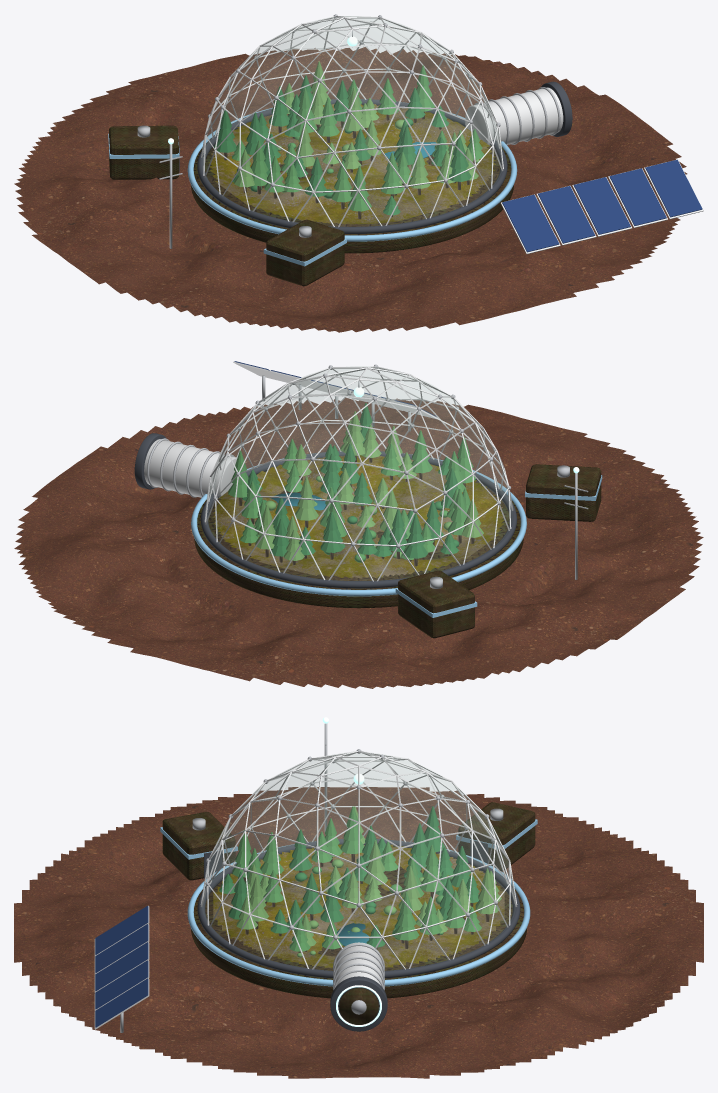
Rendered from elmapu.glb.
The picture shows the model from 3 angles, top to bottom: view 1: azimuth 30°, elevation 25°; view 2: azimuth 150°, elevation 25°; view 3: azimuth 270°, elevation 25°; orthographic projection. The views are drawn at different scales.
Visible parts, largest first — view 1: ground, dome_glass, dome_frame, garden, platform, module, tunnel, seal, module.001, platform_band, pv_panel.001, pv_panel.004 (+5 smaller); view 2: ground, dome_glass, dome_frame, garden, platform, module.001, seal, module, tunnel, platform_band, Elmapu, hatch_frame; view 3: ground, dome_glass, dome_frame, garden, platform, seal, platform_band, module, module.001, hatch_frame, tunnel, hatch (+6 smaller).
Part boxes in pixels (x1,y1,x2,y2): ground: (14, 47, 687, 332); dome_glass: (202, 16, 502, 226); dome_frame: (201, 16, 503, 227); garden: (208, 104, 495, 224); platform: (191, 128, 513, 253); module: (266, 219, 344, 286); tunnel: (465, 87, 563, 145); seal: (197, 99, 507, 233); module.001: (109, 125, 178, 179); platform_band: (187, 102, 517, 241); pv_panel.001: (538, 186, 595, 243); pv_panel.004: (645, 159, 702, 217); ground: (14, 397, 703, 688); dome_glass: (205, 366, 512, 580); dome_frame: (204, 366, 513, 581); garden: (212, 455, 505, 578); platform: (194, 471, 523, 608); module.001: (398, 570, 474, 638); seal: (200, 451, 517, 588); module: (526, 464, 601, 521); tunnel: (144, 439, 237, 498); platform_band: (191, 453, 526, 596); Elmapu: (213, 364, 511, 548); hatch_frame: (134, 433, 166, 489); ground: (14, 787, 703, 1078); dome_glass: (202, 753, 515, 970); dome_frame: (200, 751, 517, 969); garden: (213, 844, 504, 967); platform: (191, 861, 526, 998); seal: (197, 839, 520, 978); platform_band: (187, 841, 530, 986); module: (162, 812, 235, 880); module.001: (458, 802, 535, 871); hatch_frame: (330, 976, 387, 1031); tunnel: (335, 942, 382, 985); hatch: (339, 988, 378, 1024).
Size of the model in its own units: 12.52 by 3.78 by 12.52.
15 materials, 3 textured.
